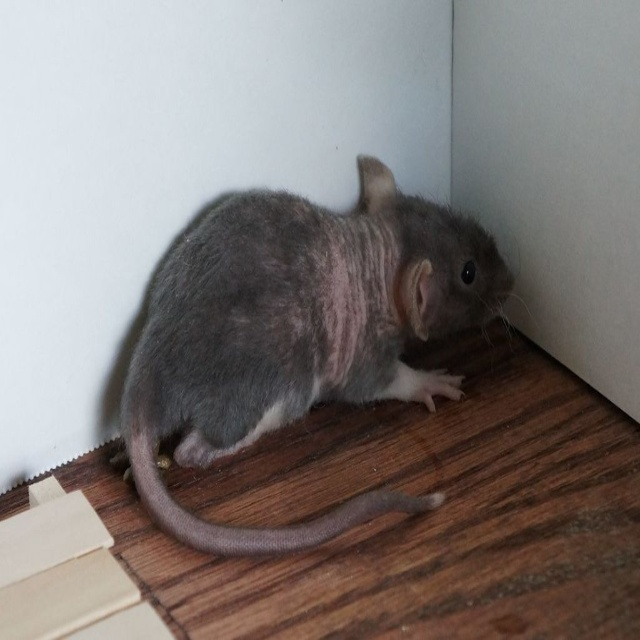Mouse: (119, 154, 536, 551)
